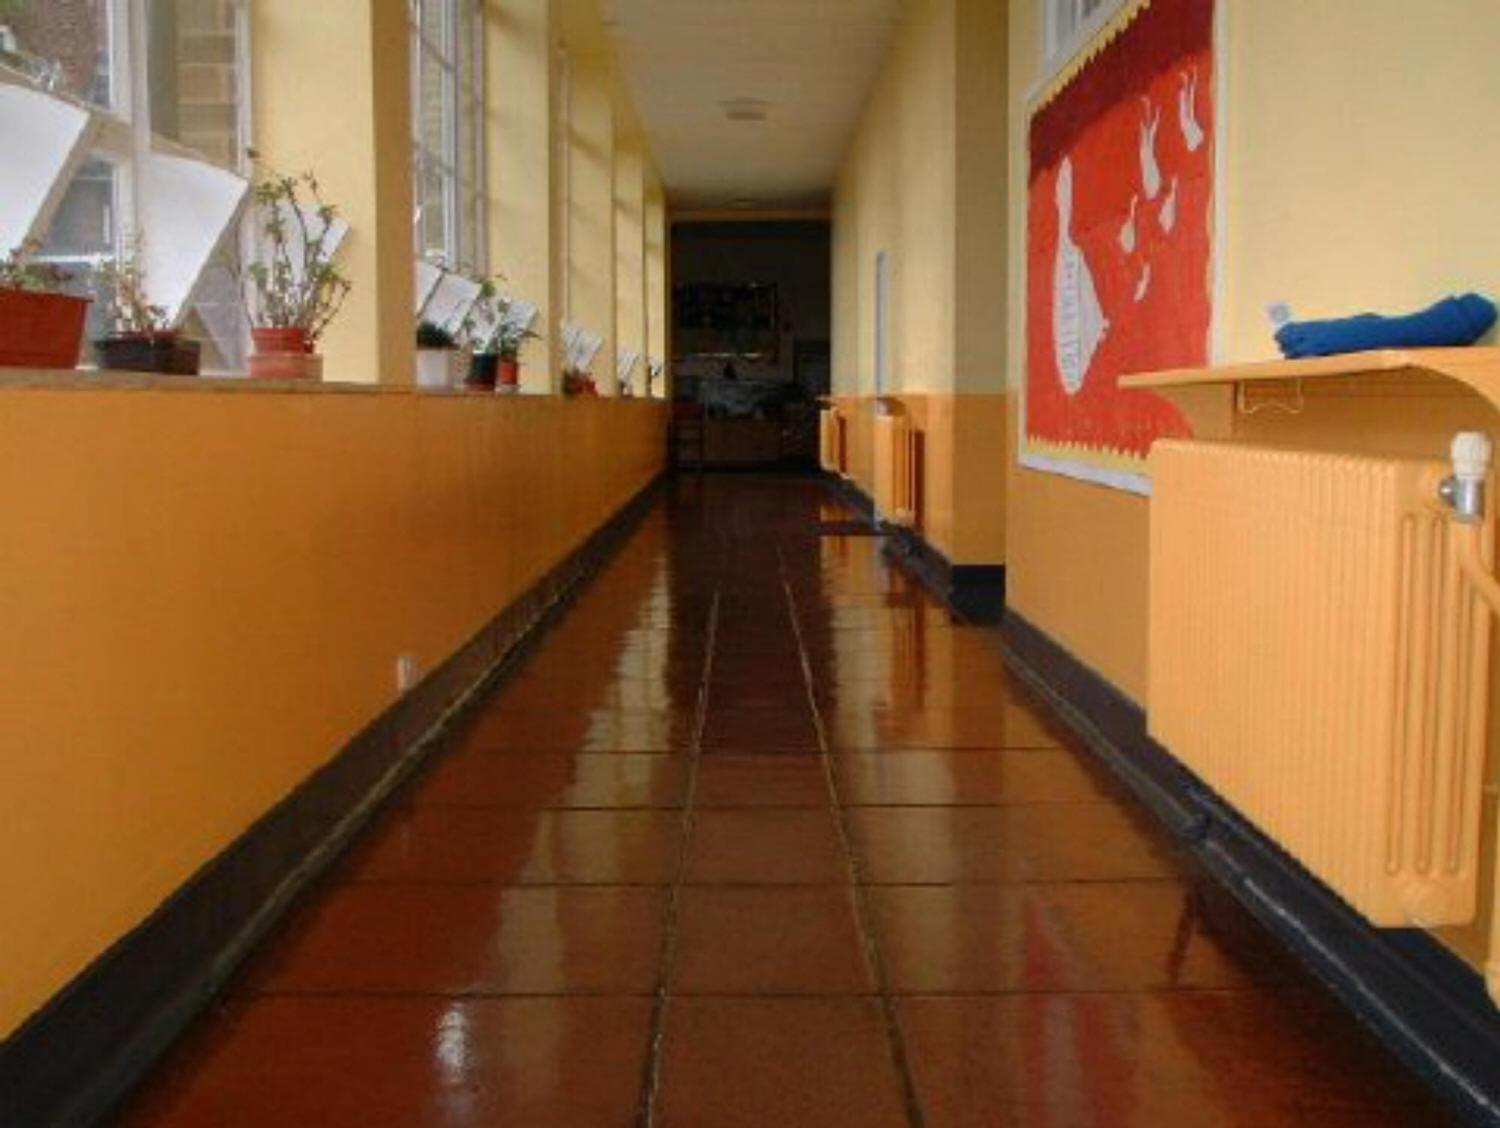Otro Obstaculo: (1124, 344, 1469, 925), (865, 395, 919, 537)
Ventana: (8, 4, 363, 368), (412, 9, 536, 382)
